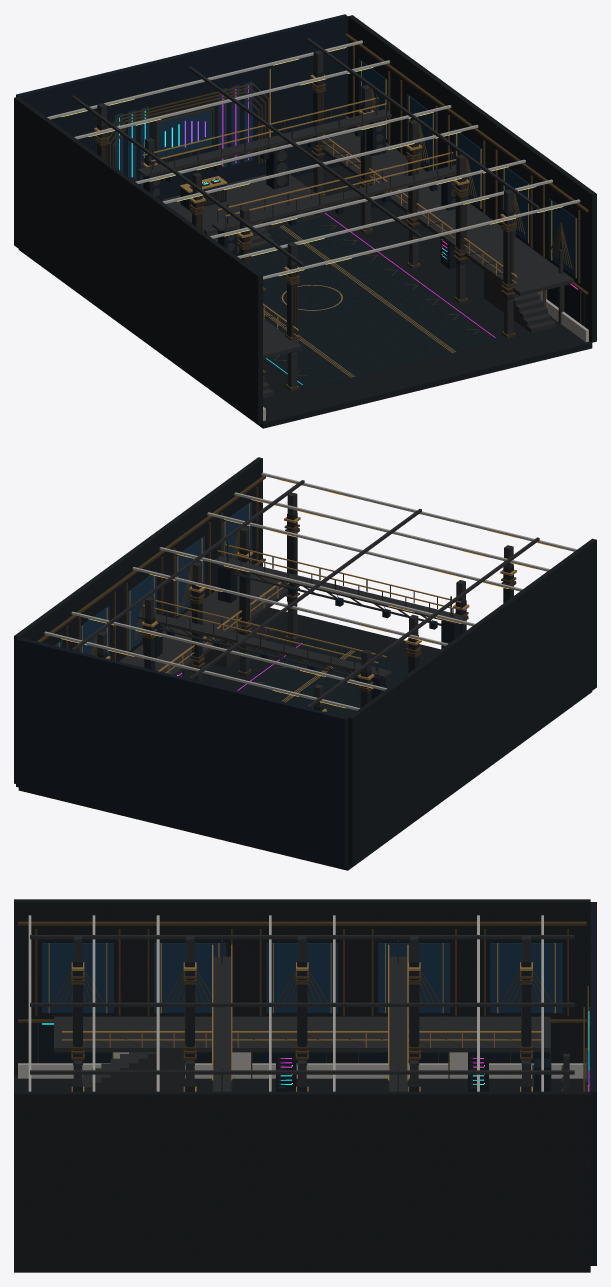
The model's file is club_detallado.glb.
The picture shows the model from 3 angles, top to bottom: view 1: azimuth 30°, elevation 25°; view 2: azimuth 150°, elevation 25°; view 3: azimuth 270°, elevation 25°; orthographic projection. The views are drawn at different scales.
Parts seen in each view (by area): view 1: Pared izquierda, Pista principal, Pared escenario, Suelo continuo, Pared derecha, Balcón lateral (×2), Costilla techo (×7), Panel cristal (×5), Pasarela transversal (×2), Viga longitudinal (×3), Revestimiento pilar (×5), Escenario (+7 smaller); view 2: Pared escenario, Pared izquierda, Pared derecha, Costilla techo (×7), Suelo continuo, Pista principal, Viga longitudinal (×3), Balcón lateral, Pasarela transversal (×2), Panel cristal (×4), Revestimiento pilar (×3), Cornisa lateral superior (+1 smaller); view 3: Pared derecha, Pared izquierda, Panel cristal (×5), Balcón lateral, Viga longitudinal (×3), Suelo continuo, Pasarela transversal (×2), Revestimiento pilar (×5), Costilla techo (×7), Zócalo lateral, Panel inferior industrial (×4), Cornisa lateral superior (+5 smaller).
Boxes of the visible parts, <box> form: Pared izquierda: <box>14,96,262,423</box>; Pista principal: <box>237,211,503,389</box>; Pared escenario: <box>16,14,347,199</box>; Suelo continuo: <box>18,165,592,428</box>; Pared derecha: <box>348,15,596,342</box>; Balcón lateral (×2): <box>263,126,573,358</box>; Costilla techo (×7): <box>47,40,580,279</box>; Panel cristal (×5): <box>359,59,577,278</box>; Pasarela transversal (×2): <box>137,109,466,231</box>; Viga longitudinal (×3): <box>71,38,539,267</box>; Revestimiento pilar (×5): <box>287,70,513,352</box>; Escenario: <box>162,174,324,230</box>; Pared escenario: <box>16,637,347,866</box>; Pared izquierda: <box>348,538,596,866</box>; Pared derecha: <box>14,457,262,783</box>; Costilla techo (×7): <box>44,472,576,710</box>; Suelo continuo: <box>18,607,592,870</box>; Pista principal: <box>234,639,408,717</box>; Viga longitudinal (×3): <box>71,480,539,707</box>; Balcón lateral: <box>119,574,288,675</box>; Pasarela transversal (×2): <box>137,556,466,678</box>; Panel cristal (×4): <box>80,501,251,656</box>; Revestimiento pilar (×3): <box>192,513,297,671</box>; Cornisa lateral superior: <box>37,476,265,642</box>; Pared derecha: <box>14,1091,590,1268</box>; Pared izquierda: <box>14,899,590,1076</box>; Panel cristal (×5): <box>42,943,562,1012</box>; Balcón lateral: <box>54,1016,550,1052</box>; Viga longitudinal (×3): <box>30,935,574,1074</box>; Suelo continuo: <box>14,1076,590,1272</box>; Pasarela transversal (×2): <box>213,956,407,1091</box>; Revestimiento pilar (×5): <box>73,958,531,1064</box>; Costilla techo (×7): <box>28,915,543,1091</box>; Zócalo lateral: <box>18,1063,585,1078</box>; Panel inferior industrial (×4): <box>31,1022,556,1063</box>; Cornisa lateral superior: <box>18,921,586,925</box>.
Bounding box in the file's own units: 28.8 × 12.46 × 36.4.
Materials: 17 (7 with a texture image).
